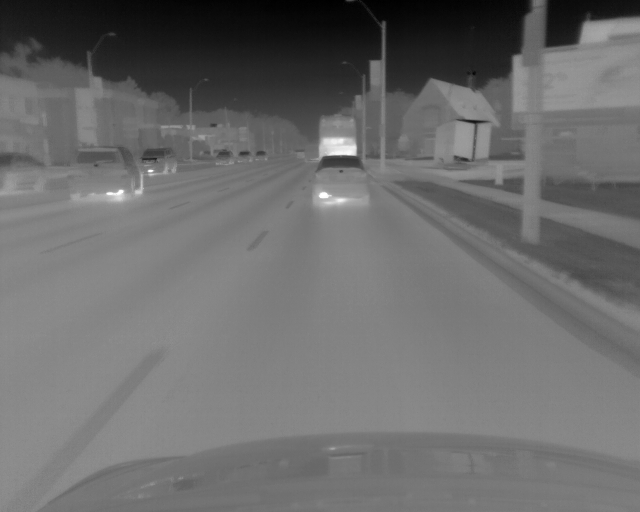car: (69, 145, 143, 200), (312, 155, 370, 208), (1, 151, 48, 194), (316, 114, 356, 160), (141, 148, 178, 176), (215, 151, 233, 166), (236, 151, 251, 163), (255, 149, 268, 161), (295, 145, 304, 160)
